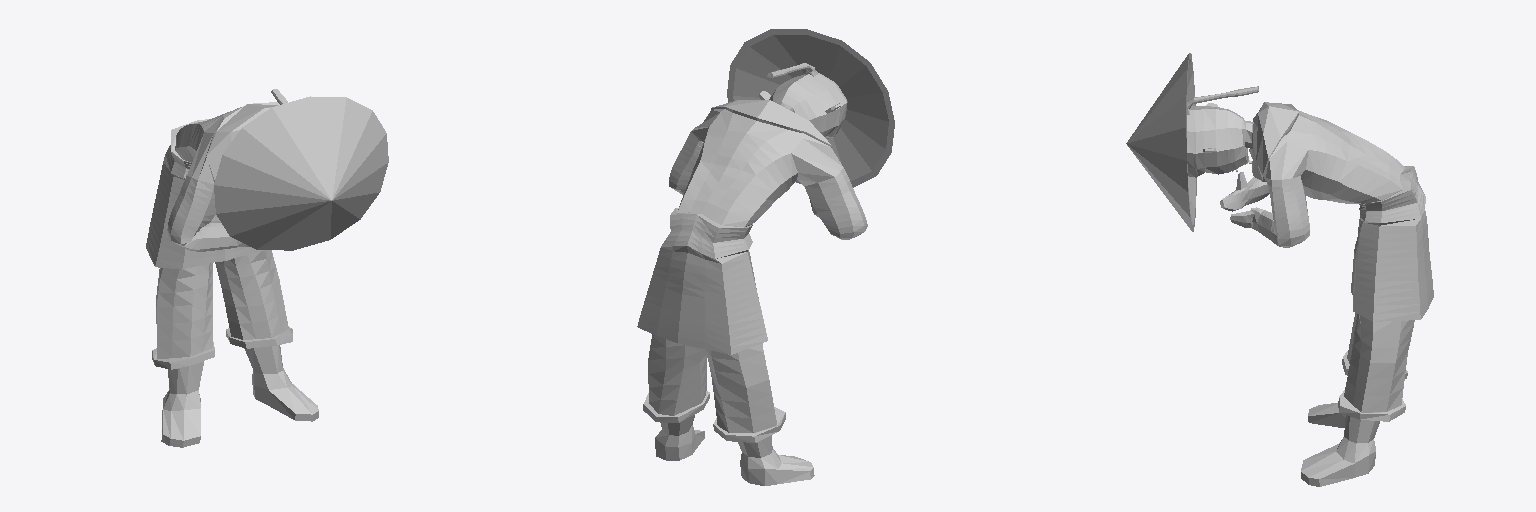
The model's file is ChinoCelebracion_000292.obj.
3 renders of one model, left to right at view 1: azimuth 30°, elevation 25°; view 2: azimuth 150°, elevation 25°; view 3: azimuth 270°, elevation 25°, orthographic.
Visible parts, largest first — view 1: Chino_ChinoH; view 2: Chino_ChinoH; view 3: Chino_ChinoH.
Boxes of the visible parts, x1,y1,x2,y2 form: Chino_ChinoH: [146, 89, 388, 447]; Chino_ChinoH: [637, 29, 894, 485]; Chino_ChinoH: [1126, 53, 1433, 486].
Bounding box in the file's own units: 3.2 × 6.45 × 4.7.